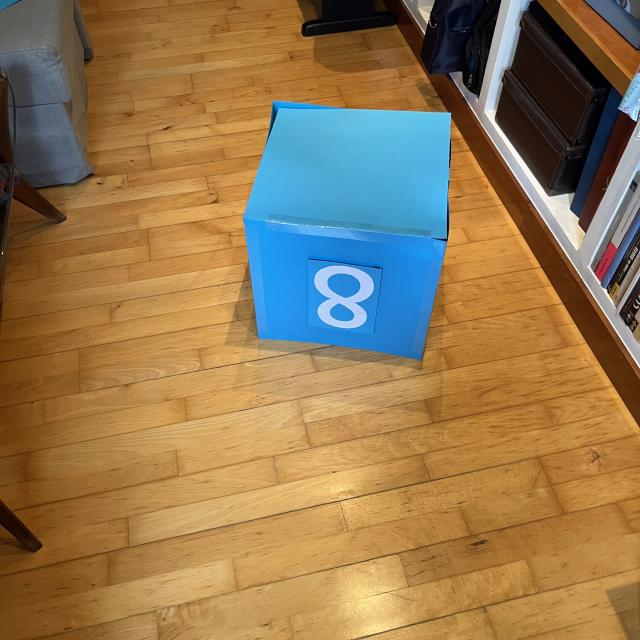box: (240, 97, 453, 363)
